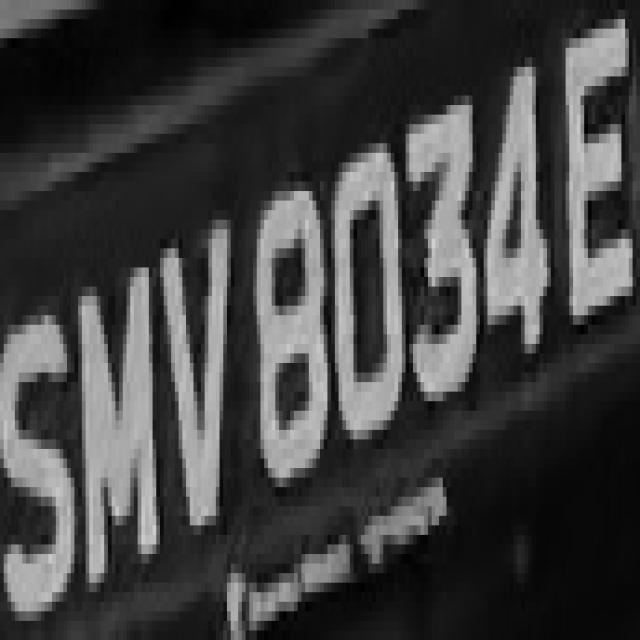0: (328, 134, 410, 478)
3: (391, 77, 480, 440)
4: (484, 29, 558, 382)
8: (250, 162, 328, 516)
E: (554, 19, 632, 354)
M: (78, 229, 160, 583)
S: (4, 277, 78, 621)
V: (160, 201, 234, 573)
